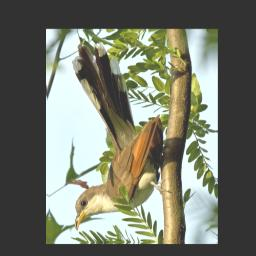Cuckoo: (71, 42, 167, 231)
